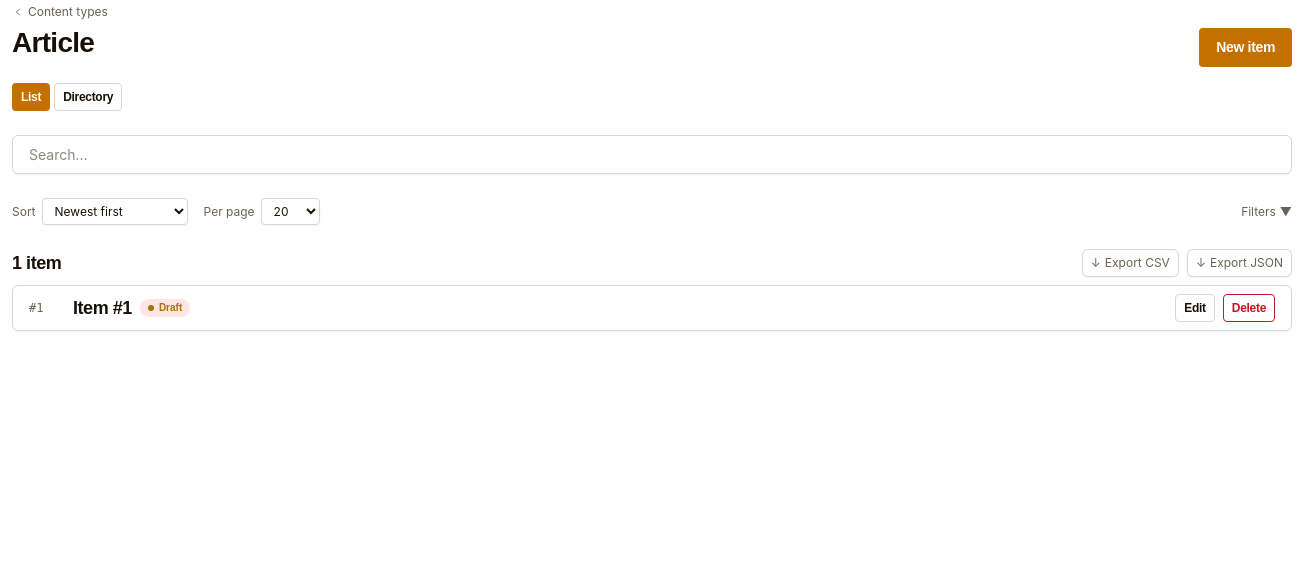
Test case: EntityRecordsPage › shows empty state when no records match the tag filter
Expected: the text "Item #1" is shown, [73, 298, 132, 317]
// 絞り込みアコーディオンを開く
Click the button "Filters ▼" at x=1267, y=212, box [1241, 202, 1292, 220]
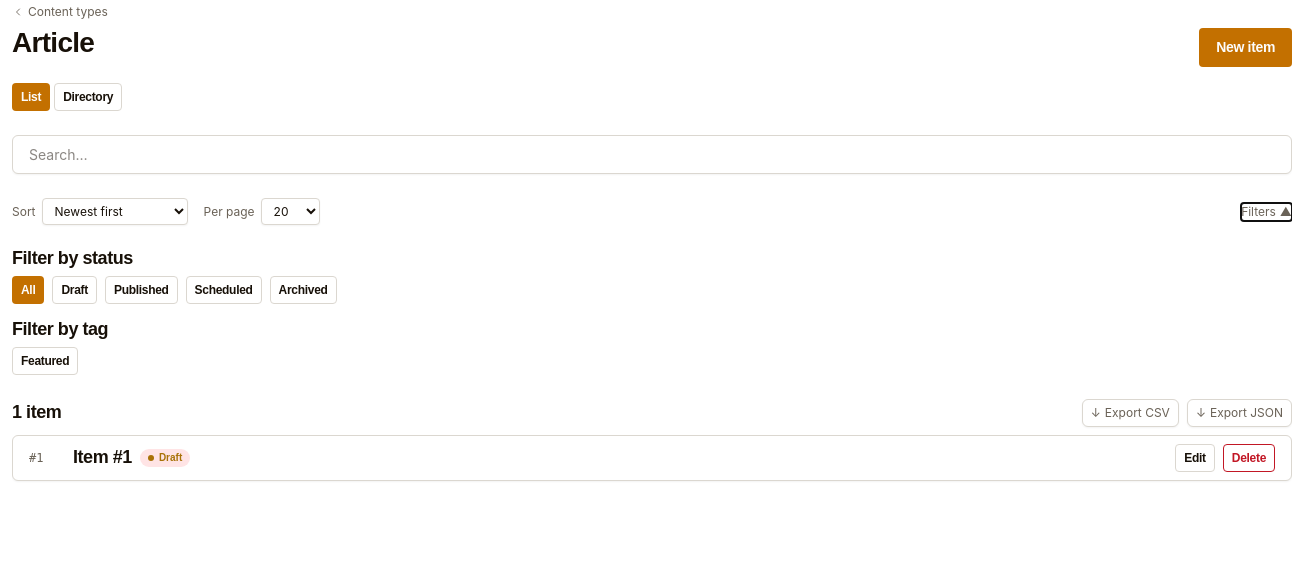
Click the button "Featured" at x=45, y=361, box [12, 347, 78, 375]
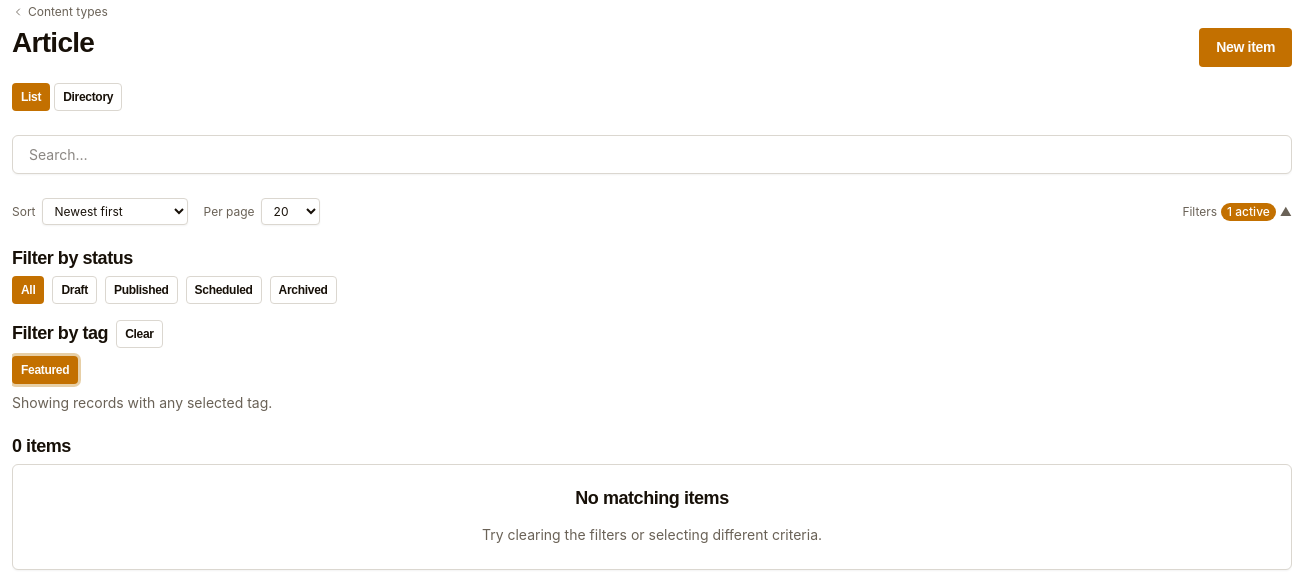
Now the heading "No matching items" is shown, box [575, 489, 729, 508]
